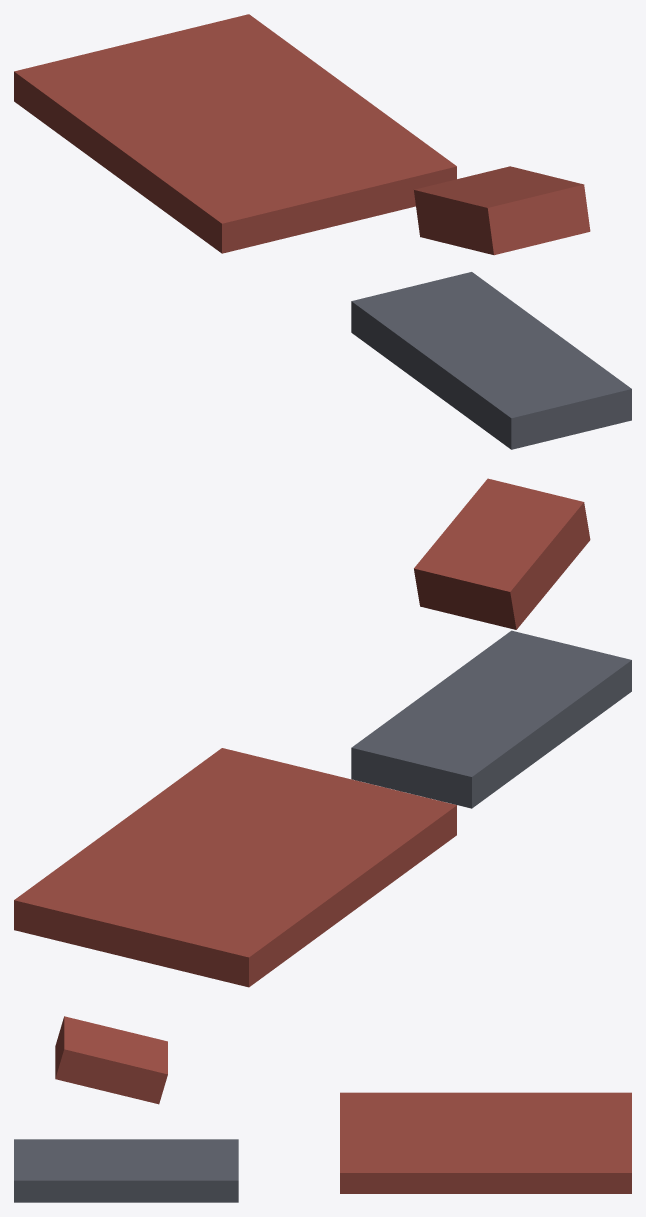
File: SU_ZarevoMLRS.fbx
3 views of the same model, one above another, from view 1: azimuth 30°, elevation 25°; view 2: azimuth 150°, elevation 25°; view 3: azimuth 270°, elevation 25° (orthographic). The views are drawn at different scales.
Visible parts, largest first — view 1: Cube.001, Cube, Cube.002; view 2: Cube.001, Cube, Cube.002; view 3: Cube.001, Cube, Cube.002.
Part boxes in pixels (x1,y1,x2,y2): Cube.001: (14, 14, 456, 253); Cube: (351, 272, 631, 449); Cube.002: (414, 166, 590, 255); Cube.001: (14, 748, 456, 987); Cube: (351, 630, 631, 808); Cube.002: (414, 478, 590, 629); Cube.001: (340, 1092, 631, 1193); Cube: (14, 1139, 238, 1202); Cube.002: (55, 1016, 167, 1104).
Bounding box in the file's own units: 390 × 337 × 1265.
